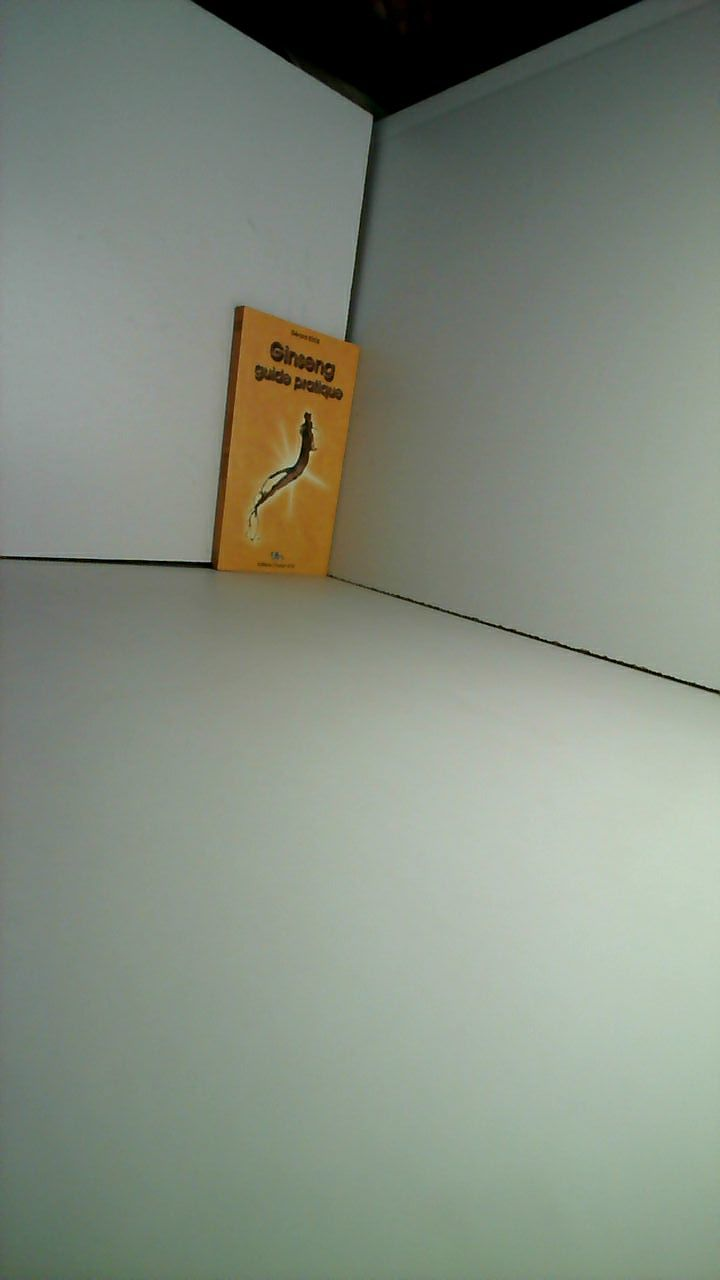book: (199, 296, 372, 590)
